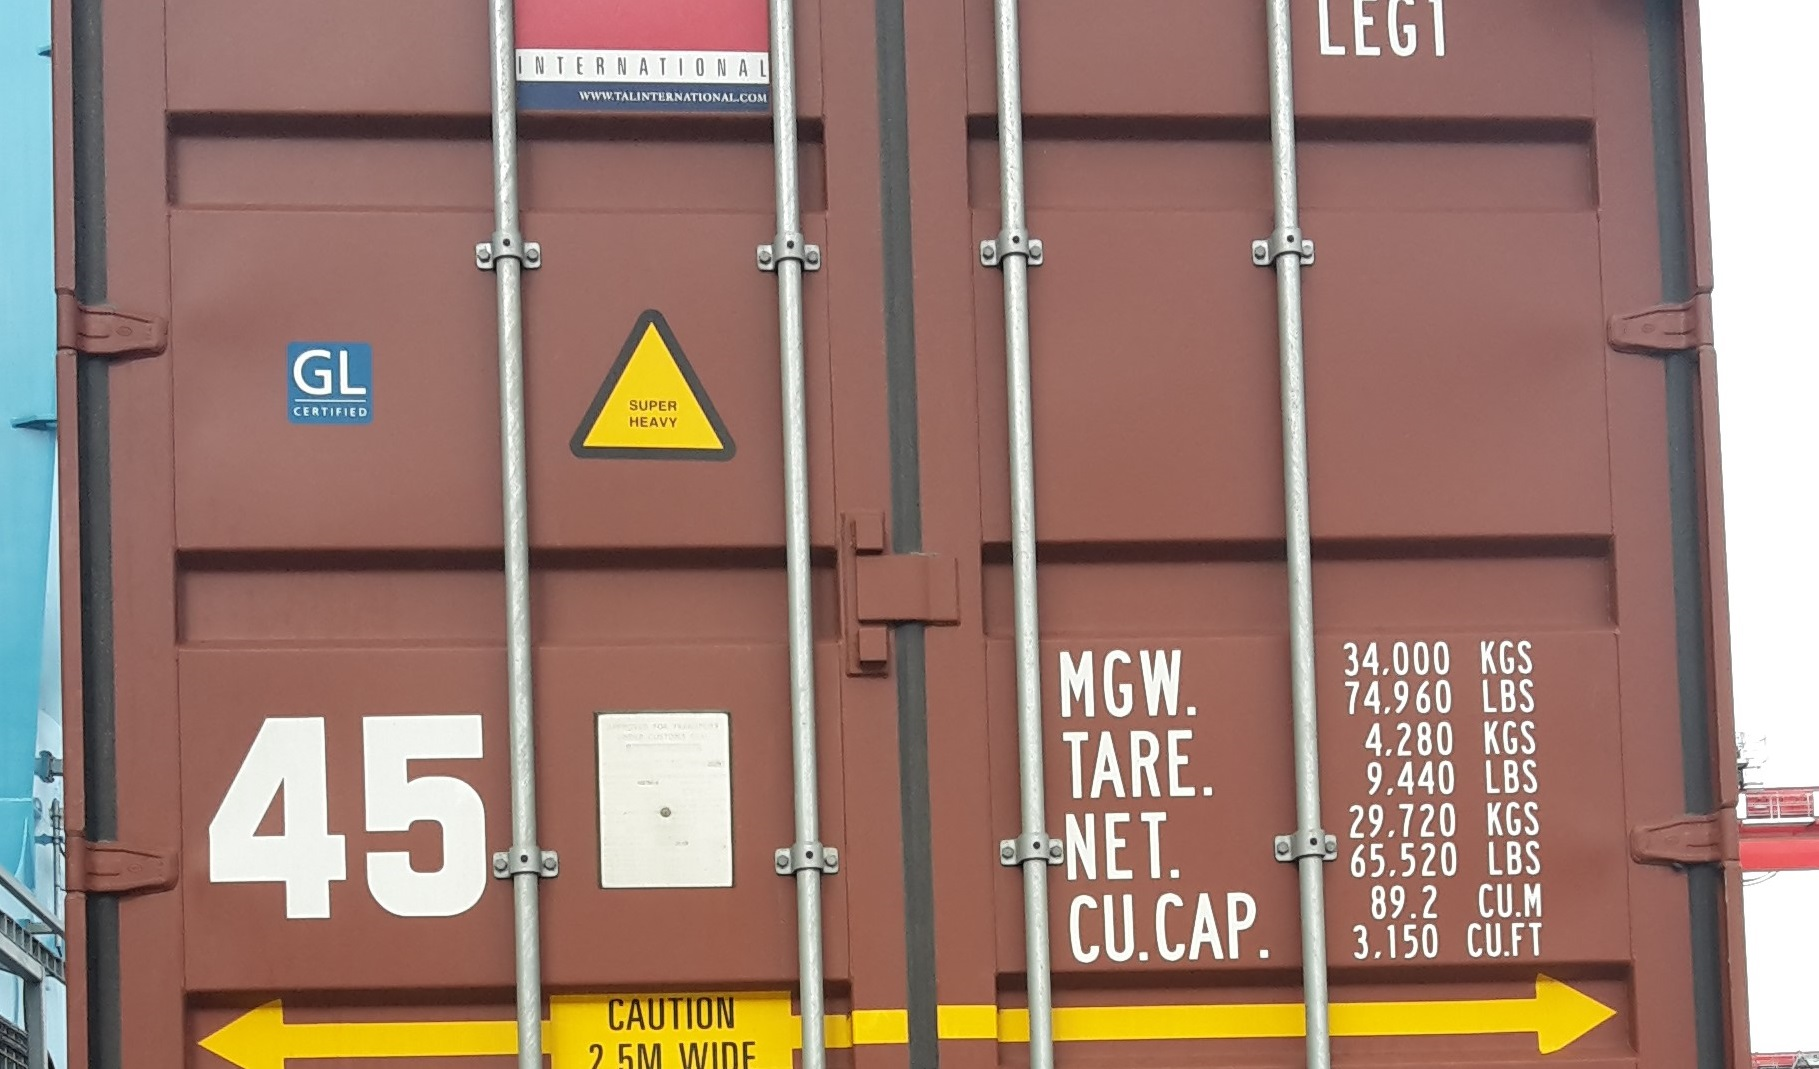container_door: (46, 3, 1764, 1061)
